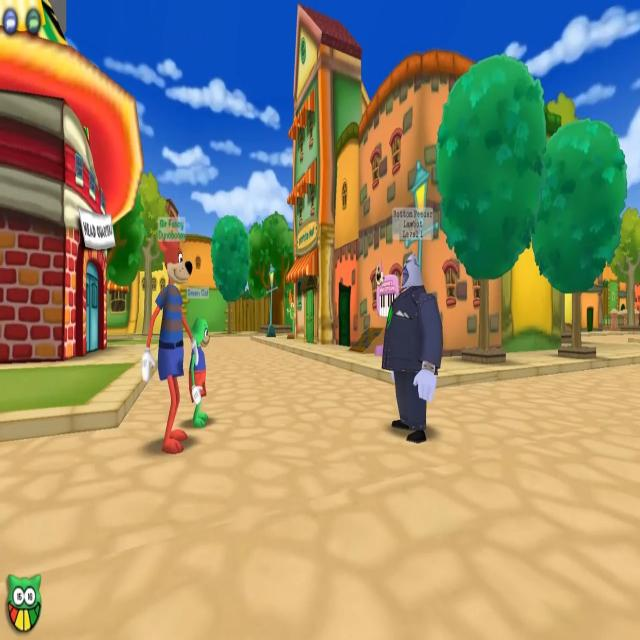bottomfeeder: (377, 199, 442, 447)
